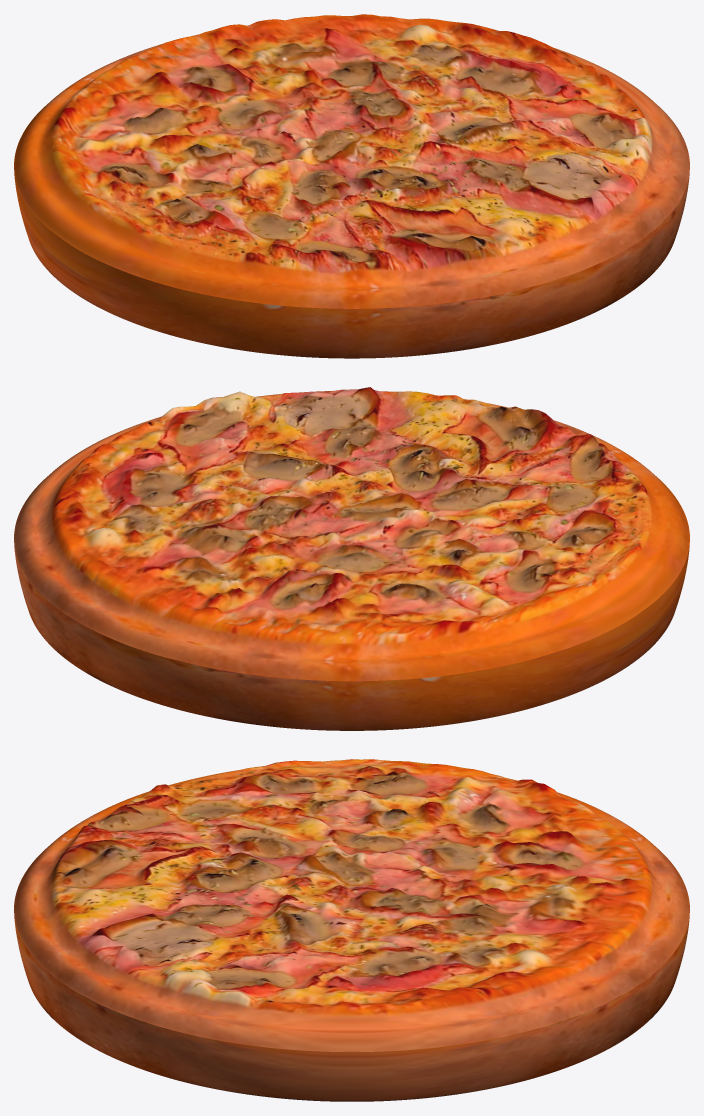
Rendered from champinon.glb.
The picture shows the model from 3 angles, top to bottom: view 1: azimuth 30°, elevation 25°; view 2: azimuth 150°, elevation 25°; view 3: azimuth 270°, elevation 25°; orthographic projection.
Parts seen in each view (by area): view 1: Champiñón; view 2: Champiñón; view 3: Champiñón.
Part boxes in pixels (x1,y1,x2,y2): Champiñón: (14,14,689,358); Champiñón: (14,387,689,730); Champiñón: (14,759,689,1101).
Bounding box in the file's own units: 0.36 × 0.0541 × 0.36.
Materials: 2 (2 with a texture image).
